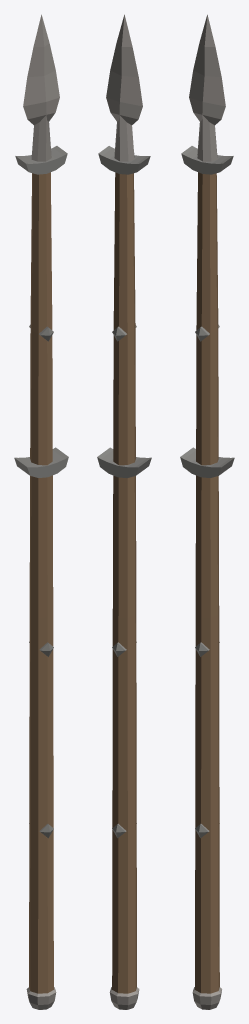
Rendered from SM_pwe_medieval_spear_03.fbx.
The picture shows the model from 3 angles, left to right: view 1: azimuth 30°, elevation 25°; view 2: azimuth 150°, elevation 25°; view 3: azimuth 330°, elevation 25°; orthographic projection.
Visible parts, largest first — view 1: SM_pwe_medieval_spear_03; view 2: SM_pwe_medieval_spear_03; view 3: SM_pwe_medieval_spear_03.
Part boxes in pixels (x1=…): SM_pwe_medieval_spear_03: x1=14, y1=14, x2=68, y2=1009; SM_pwe_medieval_spear_03: x1=97, y1=14, x2=151, y2=1009; SM_pwe_medieval_spear_03: x1=180, y1=14, x2=234, y2=1009.
Bounding box in the file's own units: 9.02 × 206 × 6.4.
